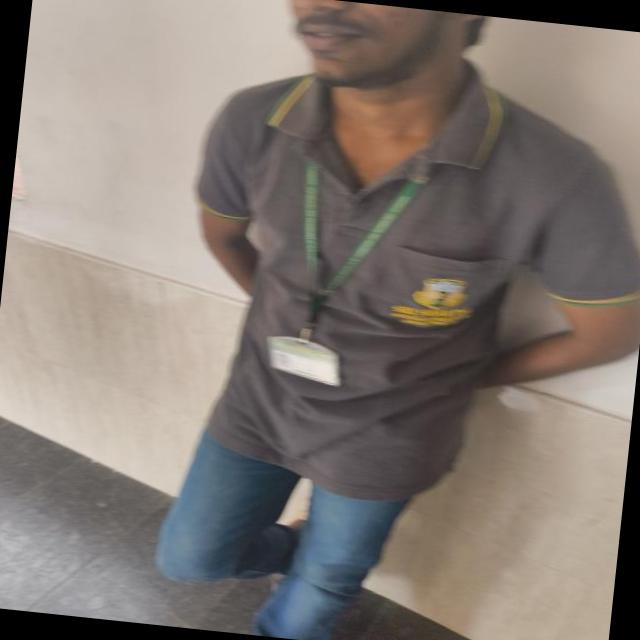id_card: (251, 166, 424, 397)
